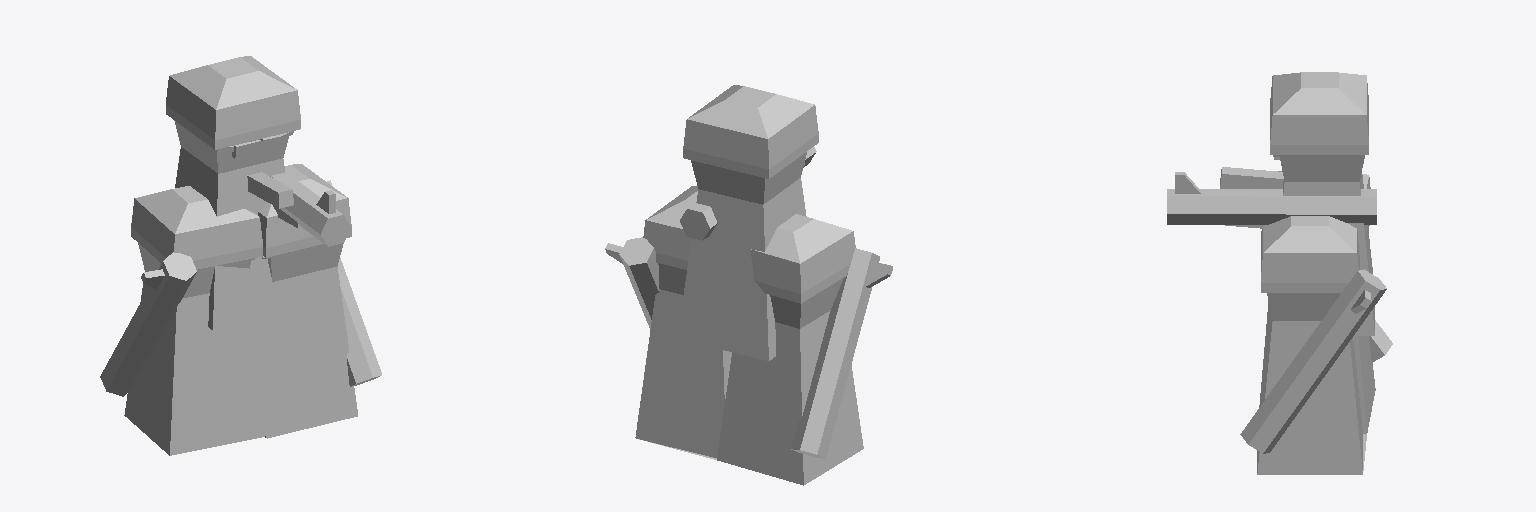
Rendered from warMech.obj.
3 views of the same model, side by side, from view 1: azimuth 30°, elevation 25°; view 2: azimuth 150°, elevation 25°; view 3: azimuth 270°, elevation 25° (orthographic).
Parts seen in each view (by area): view 1: WarRobotTemplate; view 2: WarRobotTemplate; view 3: WarRobotTemplate.
Boxes of the visible parts, box(x1,y1,x2,y2) form: WarRobotTemplate: box(100, 56, 381, 455); WarRobotTemplate: box(605, 85, 892, 485); WarRobotTemplate: box(1167, 72, 1392, 474).
Bounding box in the file's own units: 2.91 × 4.11 × 2.42.